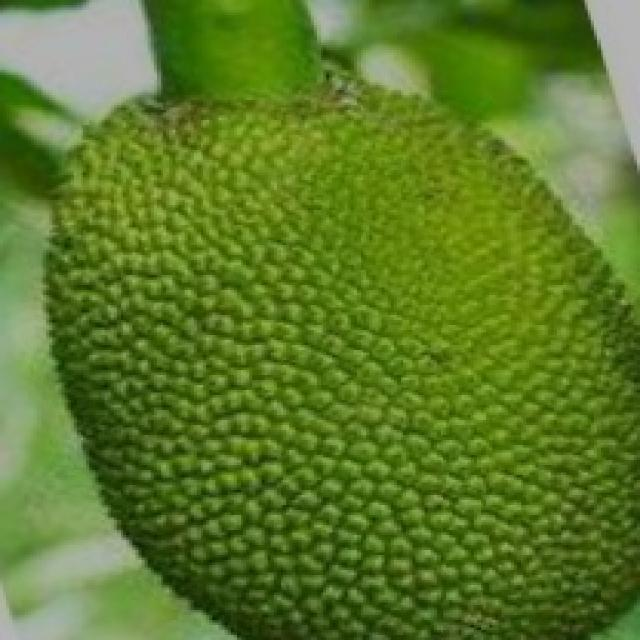Fruit: (3, 40, 419, 445), (258, 5, 640, 375), (292, 245, 637, 640)
